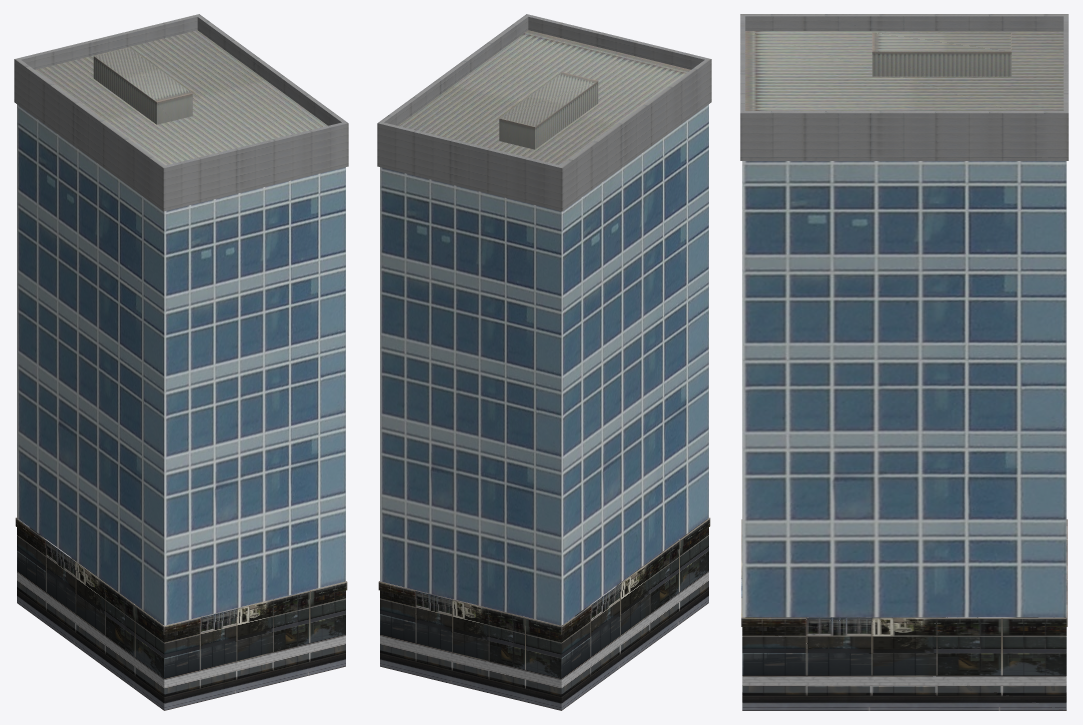
The model's file is building_6_v100500.obj.
3 renders of one model, left to right at view 1: azimuth 30°, elevation 25°; view 2: azimuth 150°, elevation 25°; view 3: azimuth 270°, elevation 25°, orthographic. The views are drawn at different scales.
Visible parts, largest first — view 1: building_of_type_6_2, building_of_type_6_1, building_of_type_6_3, building_of_type_6_4, building_of_type_6_5; view 2: building_of_type_6_2, building_of_type_6_1, building_of_type_6_3, building_of_type_6_4, building_of_type_6_5; view 3: building_of_type_6_2, building_of_type_6_1, building_of_type_6_3, building_of_type_6_4, building_of_type_6_5.
Part boxes in pixels (x1,y1,x2,y2): building_of_type_6_2: (17,104,345,625); building_of_type_6_1: (15,517,347,710); building_of_type_6_3: (14,14,348,211); building_of_type_6_4: (35,30,327,165); building_of_type_6_5: (93,47,192,124); building_of_type_6_2: (380,104,708,625); building_of_type_6_1: (378,517,710,710); building_of_type_6_3: (377,14,711,211); building_of_type_6_4: (398,30,690,165); building_of_type_6_5: (499,72,598,149); building_of_type_6_2: (742,161,1066,617); building_of_type_6_1: (741,519,1067,710); building_of_type_6_3: (740,14,1068,160); building_of_type_6_4: (745,31,1063,110); building_of_type_6_5: (872,32,1011,76).
Size of the model in its own units: 89.37 by 255 by 125.
